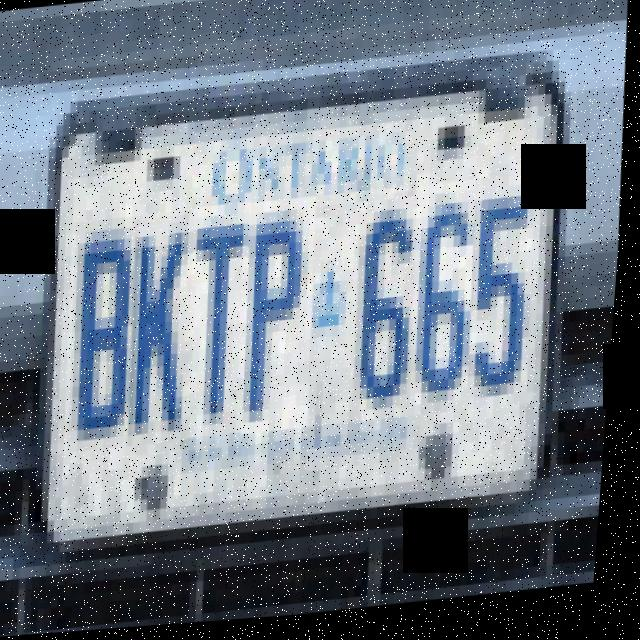5: (467, 181, 553, 419)
6: (350, 196, 433, 420), (409, 186, 487, 413)
B: (66, 217, 153, 454)
K: (125, 216, 209, 458)
P: (239, 200, 327, 442)
T: (185, 205, 262, 449)
